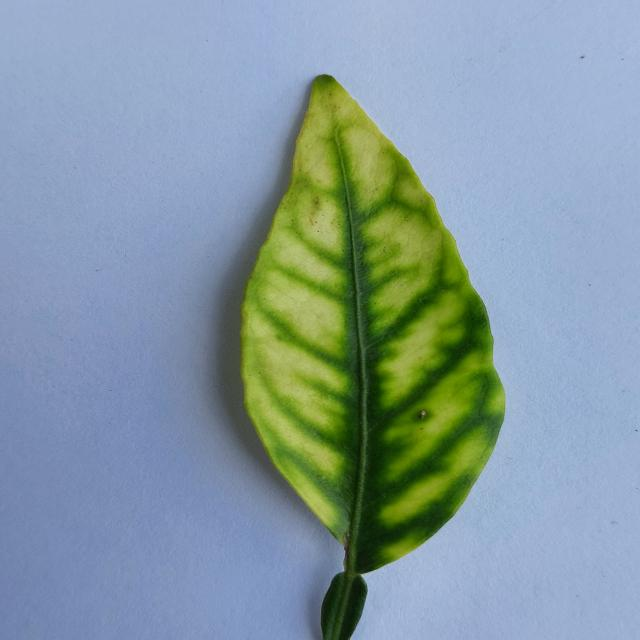greening: (241, 75, 505, 640)
